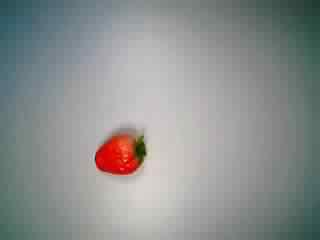strawberry: (90, 117, 156, 183)
